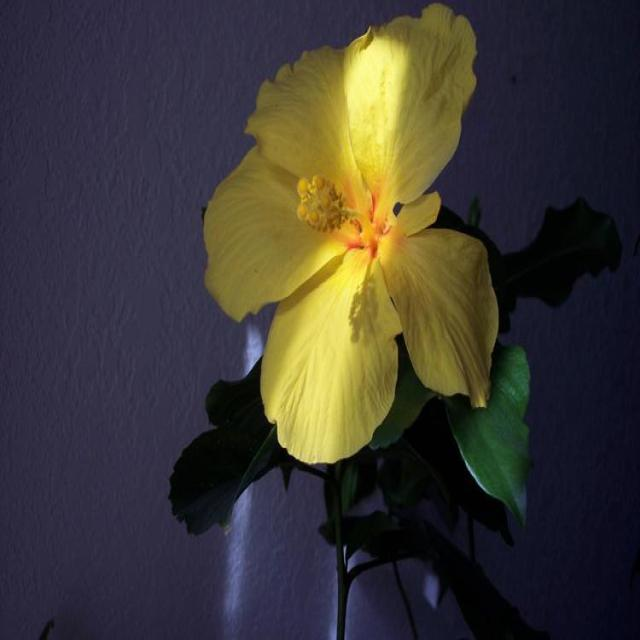hibiscus: (173, 26, 557, 561)
